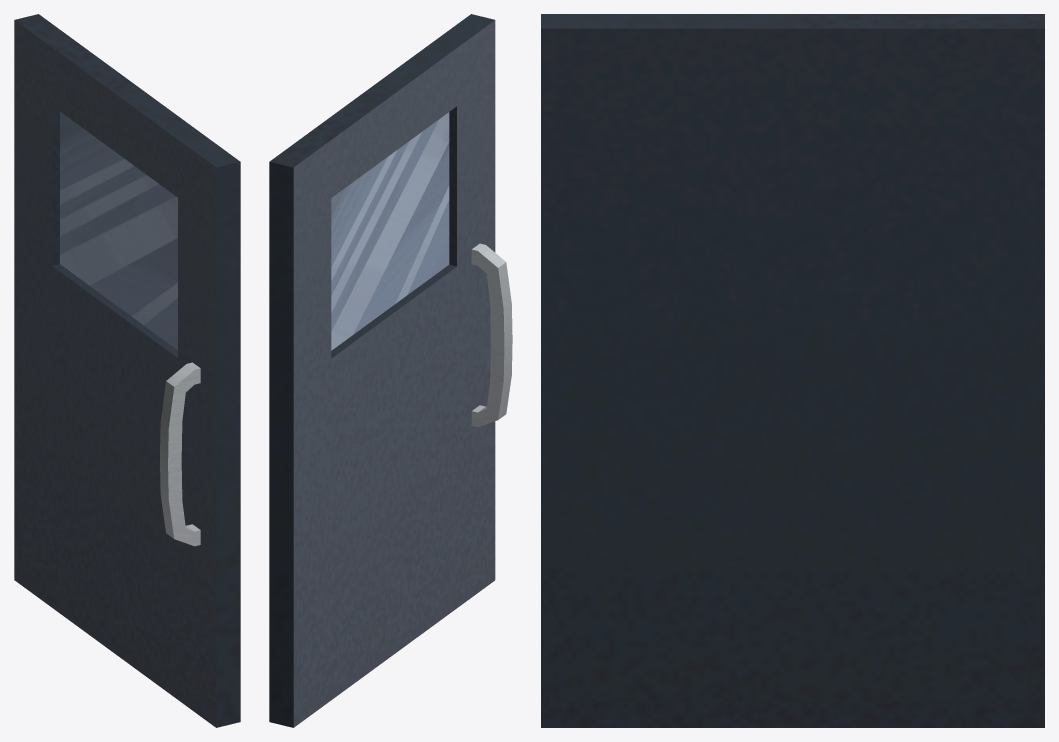
File: DoorBathroom.fbx
3 renders of one model, left to right at view 1: azimuth 30°, elevation 25°; view 2: azimuth 150°, elevation 25°; view 3: azimuth 270°, elevation 25°, orthographic. The views are drawn at different scales.
Parts seen in each view (by area): view 1: Door.001, Handle; view 2: Door.001, Handle; view 3: Door.001.
Boxes of the visible parts, left/top/right/bottom form: Door.001: left=14, top=14, right=240, bottom=727; Handle: left=160, top=362, right=200, bottom=546; Door.001: left=269, top=14, right=495, bottom=727; Handle: left=471, top=243, right=512, bottom=427; Door.001: left=541, top=14, right=1044, bottom=727.
Size of the model in its own units: 26.29 by 247 by 162.
